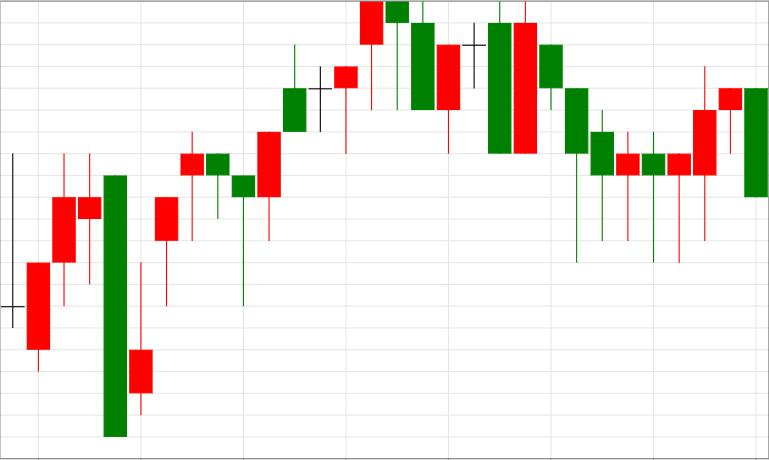hanging_man_fall: (256, 0, 410, 241)
